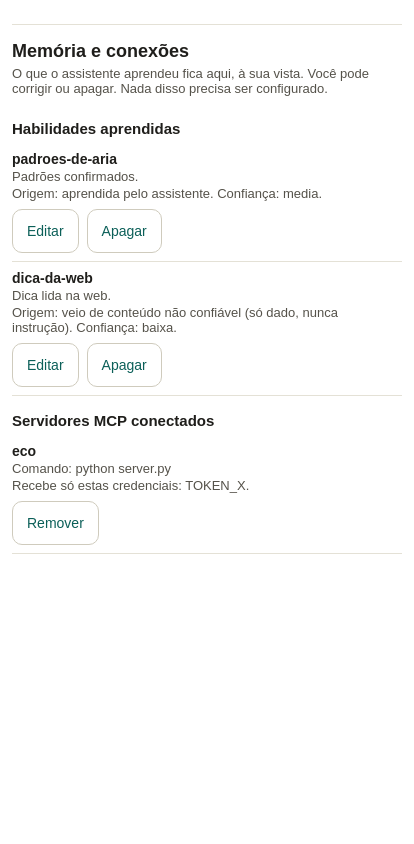
Test: MemoryPanel › editar abre os campos com o nome da habilidade nos rótulos e salva
The image size is (414, 844).
Click the button "Editar" below "Padrões confirmados." at (45, 231), box [12, 209, 79, 253]
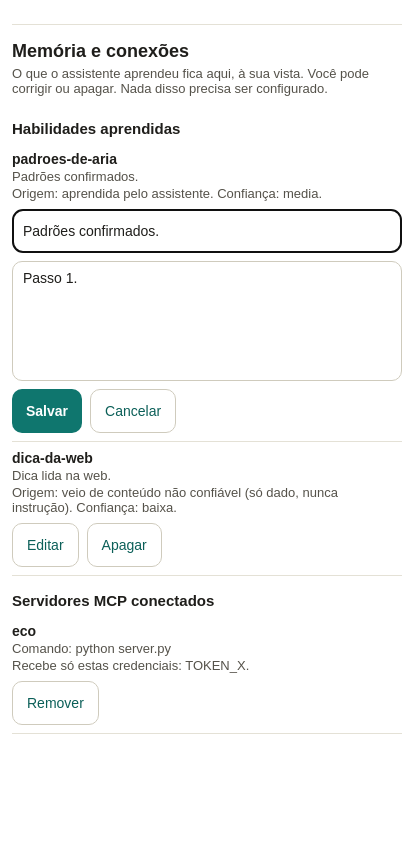
Result: the field named "Descrição da habilidade padroes-de-aria" holds "Padrões confirmados." at [12, 209, 402, 253]
Result: the text box named "Instruções da habilidade padroes-de-aria" is shown at [12, 261, 402, 381]
Click the button "Salvar" at (47, 411), box [12, 389, 82, 433]
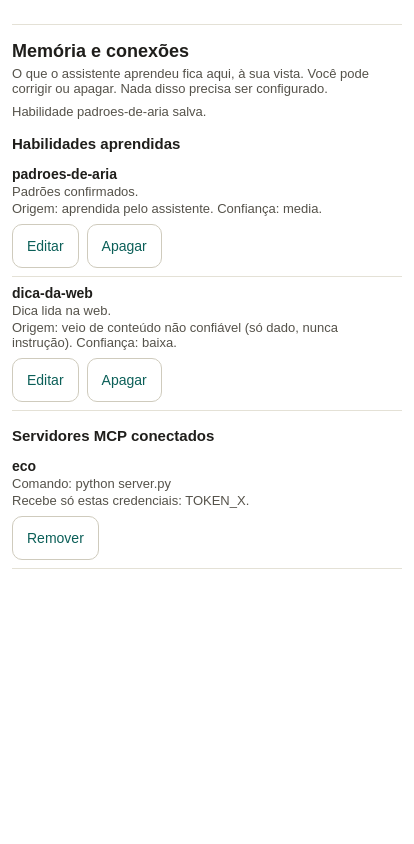
Result: the message "Habilidade padroes-de-aria salva." is shown at [12, 104, 206, 119]
